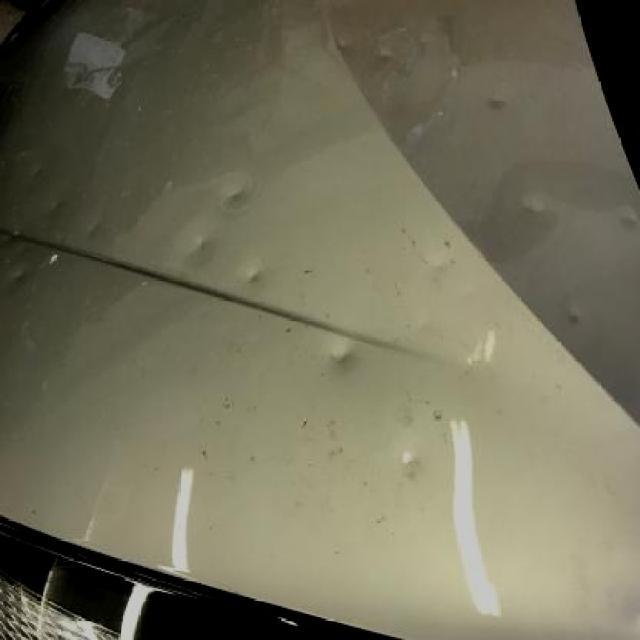dent: (187, 229, 215, 262), (223, 183, 251, 211), (327, 346, 355, 368), (523, 195, 549, 217), (398, 449, 421, 471), (244, 267, 266, 289), (566, 307, 586, 330), (427, 256, 449, 275), (86, 220, 103, 243), (7, 266, 26, 283), (47, 200, 66, 215), (33, 165, 44, 180)
